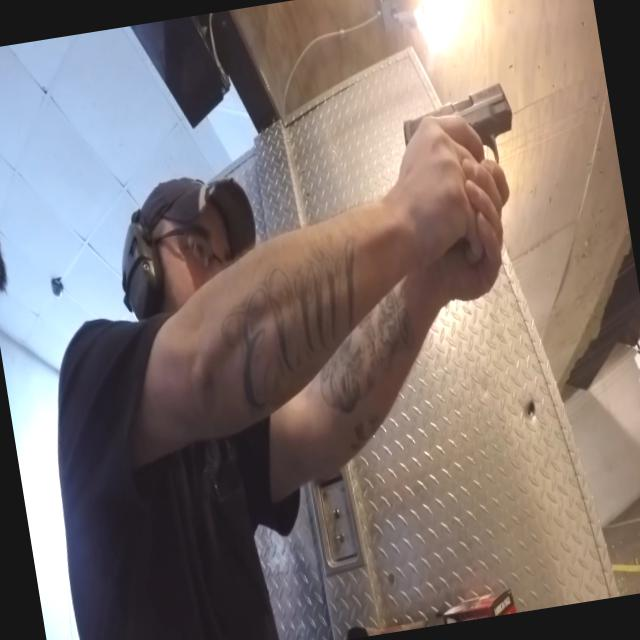handgun: (376, 69, 538, 254)
